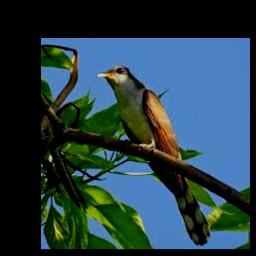Cuckoo: (97, 65, 211, 246)
